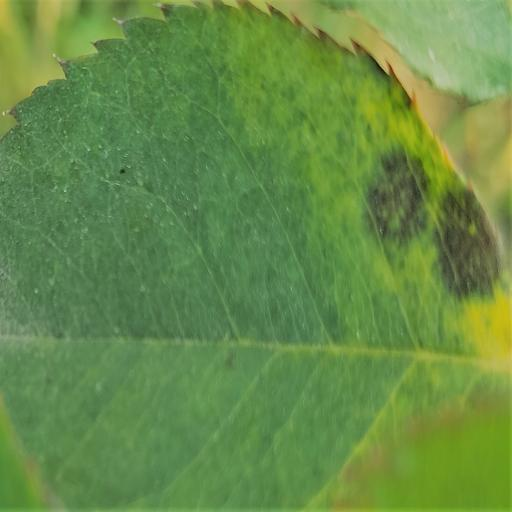black_spot: (0, 2, 512, 512)
